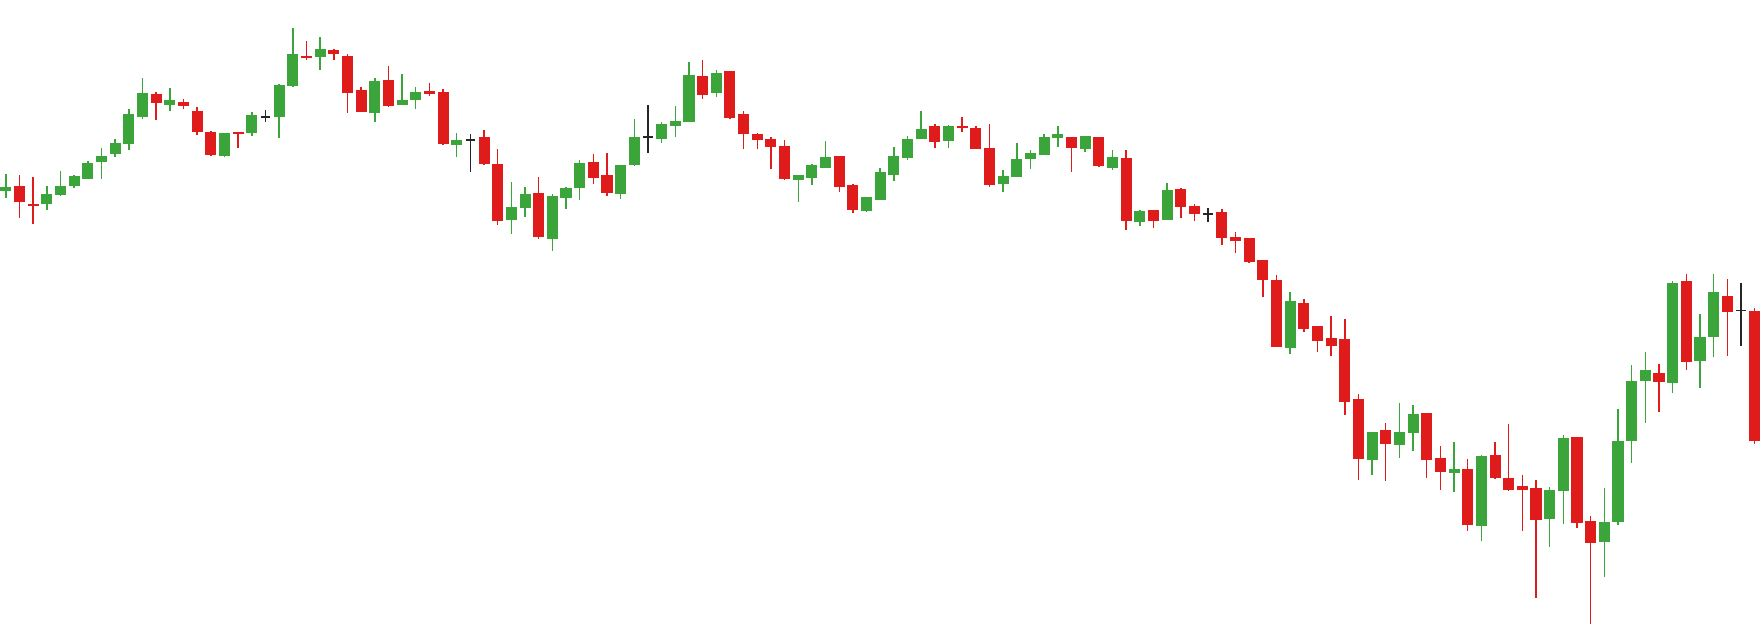buy: (1529, 482, 1597, 627)
